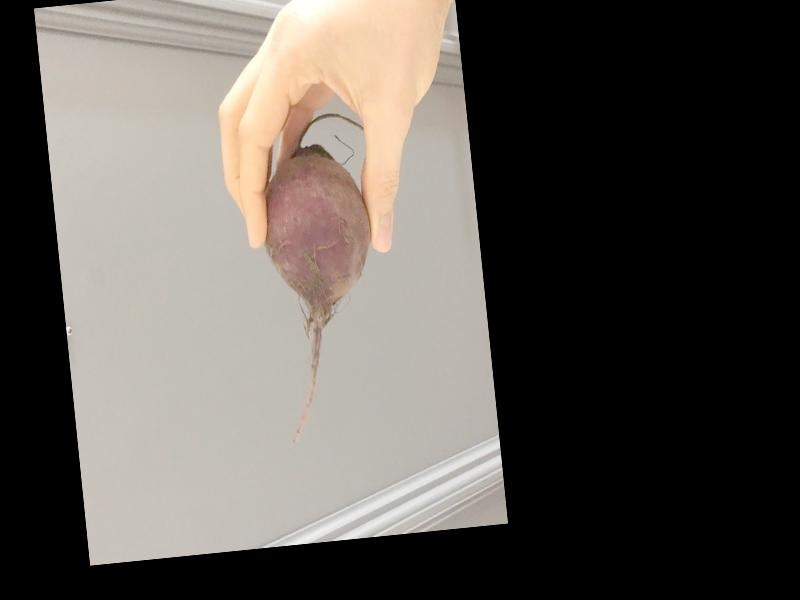Beet: (255, 112, 393, 450)
